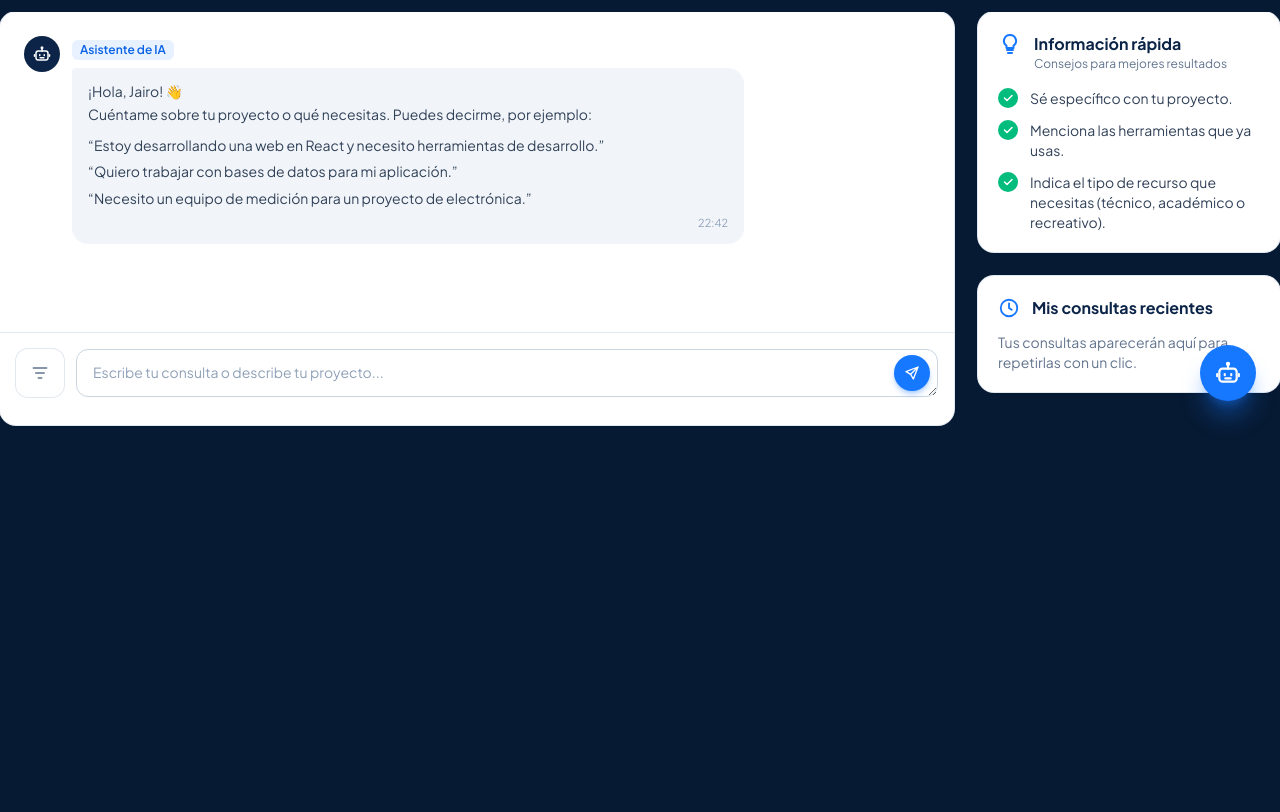
Test: Recomendaciones inteligentes (HU-009) › los filtros están ocultos hasta pedirlos y limitan la categoría
Click the button named "Filtros" at (40, 373), box x1=16 y1=349 x2=64 y2=397
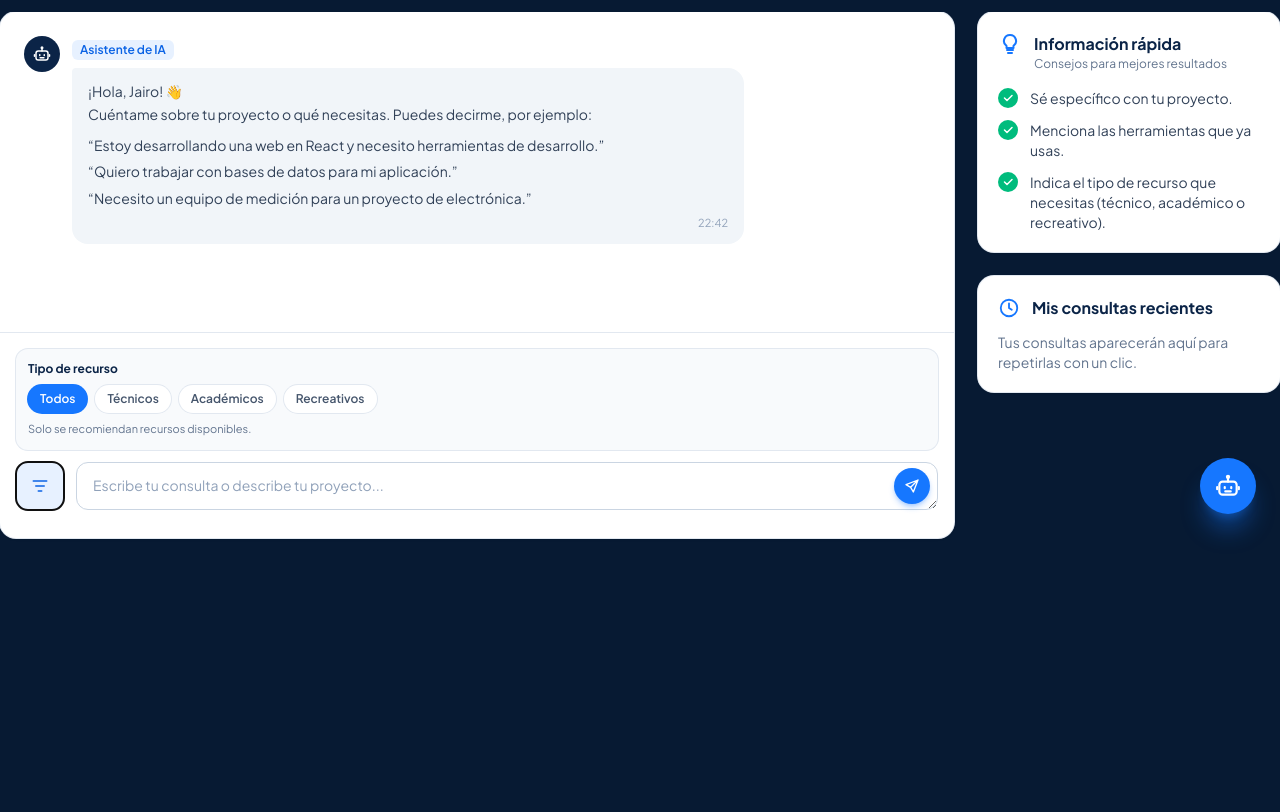
Click the button "Académicos" at (227, 399), box x1=179 y1=385 x2=276 y2=413
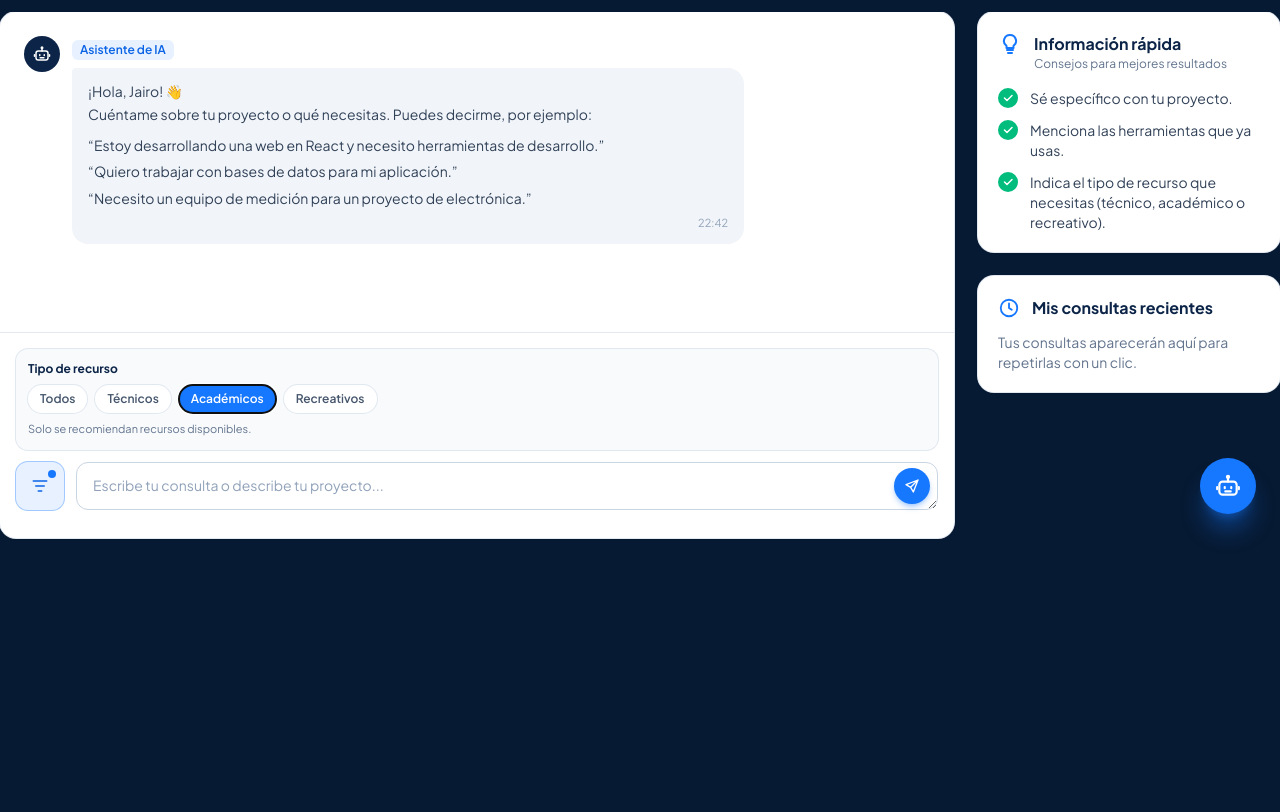
Type "Proyecto de visión por computadora" into the text box labelled "describe tu proyecto" at (507, 486), box x1=76 y1=462 x2=938 y2=510
Then press Enter
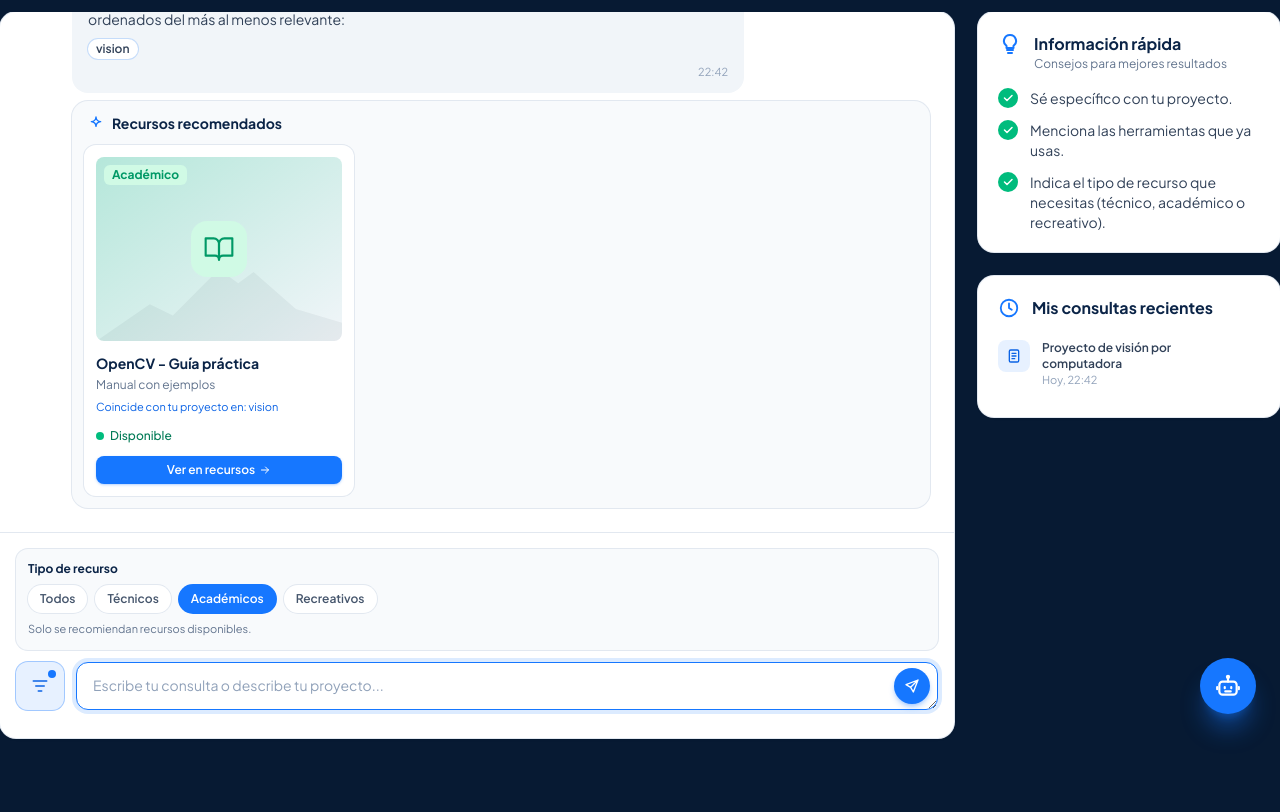
expect the link "OpenCV - Guía práctica" is shown: met, box x1=96 y1=354 x2=259 y2=372
